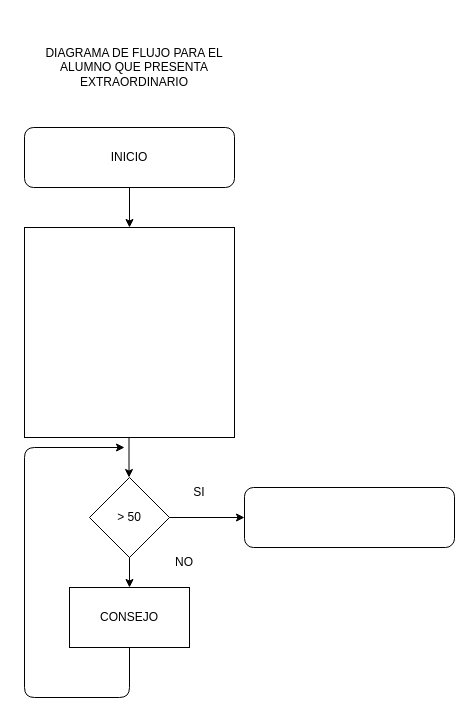
The diagram is 472 pixels wide and 723 high, and some of its shapes have lost their labels. The shapes that lost their labels are listed below. From the top down, each one's box as (x1, y1, x2, y2) in pixels, then its label:
(24, 226, 234, 438): PRESENTAR EXTRAORDINARIO DE LA MATERIA DE CALCULO
(244, 486, 454, 548): FIN
